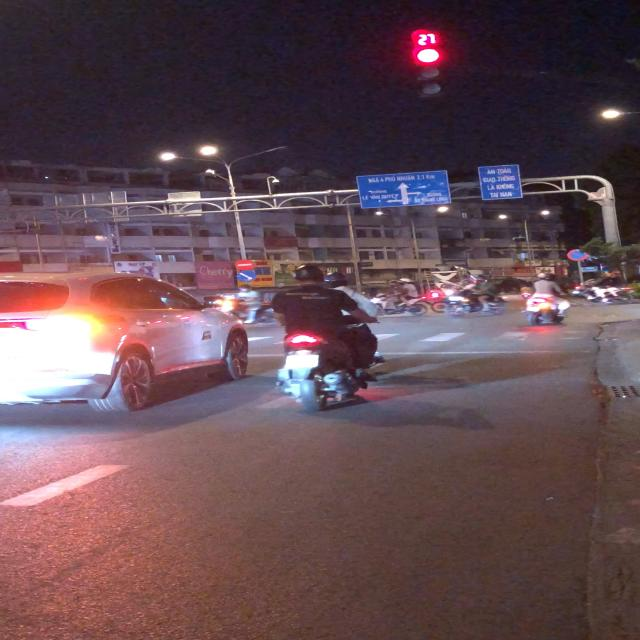Bien bao cam di nguoc chieu: (234, 259, 256, 270)
Bien bao huong phai di vong chuong ngai vat: (236, 270, 260, 282)
